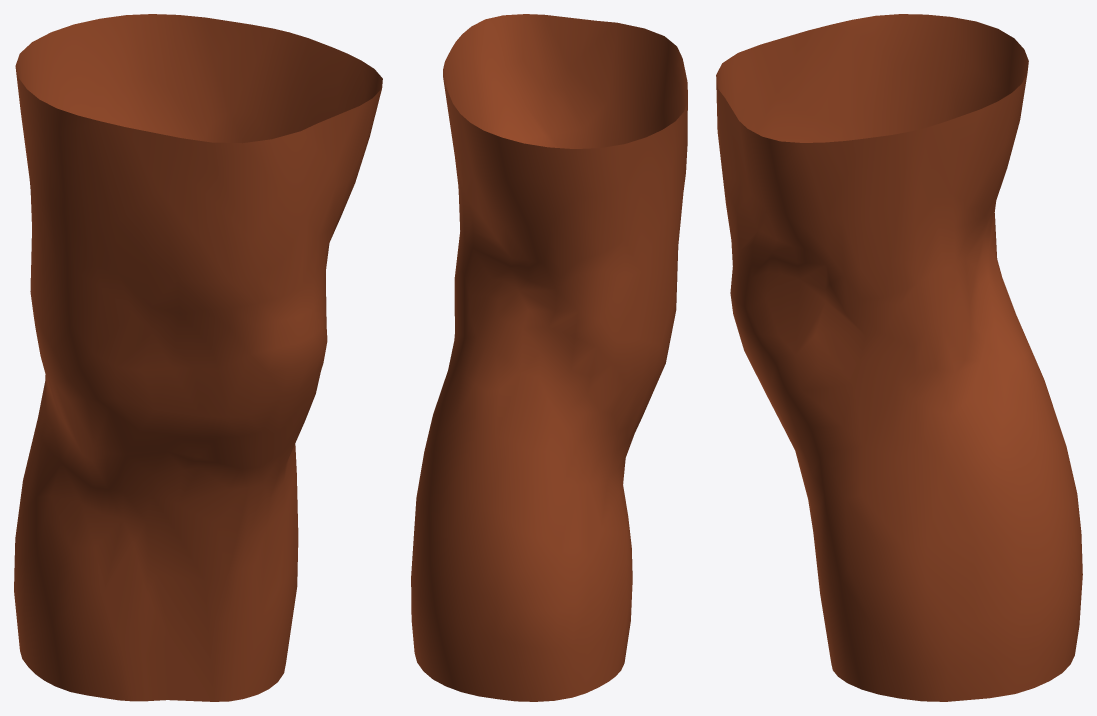
Rendered from Skin.obj.
3 renders of one model, left to right at view 1: azimuth 30°, elevation 25°; view 2: azimuth 150°, elevation 25°; view 3: azimuth 270°, elevation 25°, orthographic. The views are drawn at different scales.
Parts seen in each view (by area): view 1: Skin_untitled.029; view 2: Skin_untitled.029; view 3: Skin_untitled.029.
Part boxes in pixels (<box>): Skin_untitled.029: <box>14,14,382,701</box>; Skin_untitled.029: <box>411,14,687,701</box>; Skin_untitled.029: <box>716,14,1082,701</box>.
Size of the model in its own units: 1.45 by 3 by 1.74.
